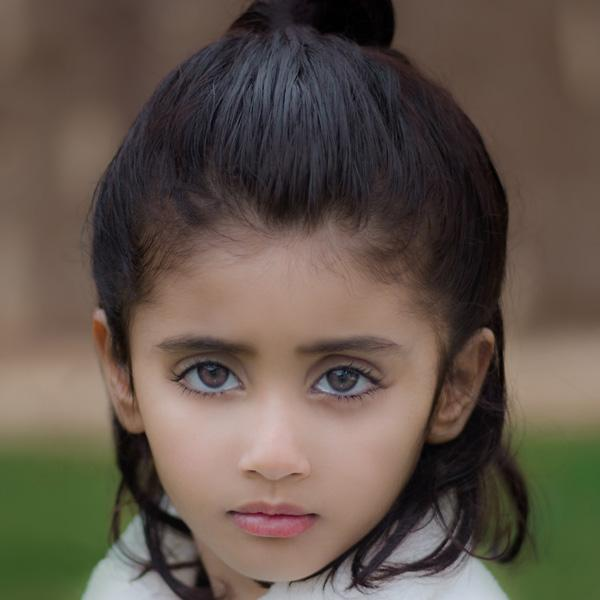Eyes: (164, 345, 253, 407), (301, 349, 388, 410)
